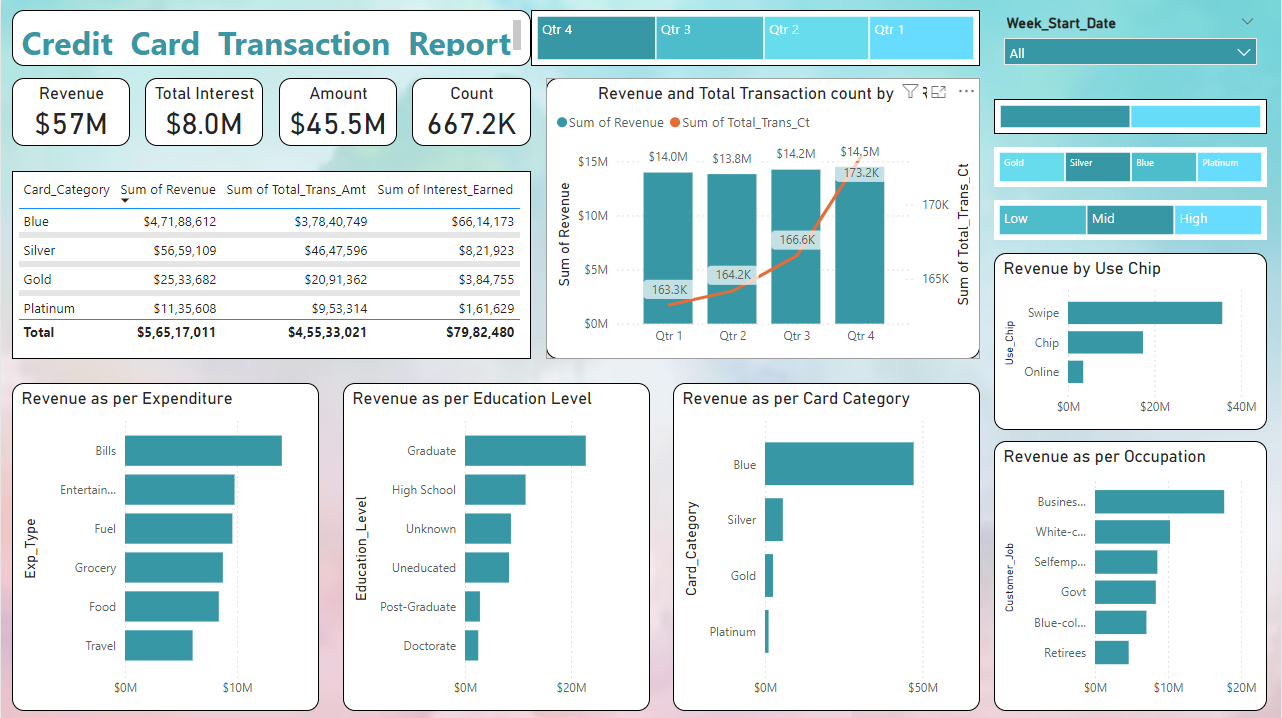

The dashboard page shown, as its layout file describes it:
{"tool":"powerbi","page":{"name":"CC transaction","canvas":[1280,720],"ordinal":1},"visuals":[{"type":"textbox","box":[10.6,9.8,519.6,55.9],"z":0},{"type":"lineClusteredColumnComboChart","title":"Revenue and Total Transaction count by QTR","fields":{"Category":["cc_detail.Week_Start_Date.Variation.Date Hierarchy.Quarter"],"Y":["Sum(cc_detail.Revenue)"],"Y2":["Sum(cc_detail.Total_Trans_Ct)"]},"box":[545.3,78,433.6,281.1],"z":1000},{"type":"clusteredBarChart","title":"Revenue as per Expenditure","fields":{"Category":["cc_detail.Exp_Type"],"Y":["Sum(cc_detail.Revenue)"]},"box":[10.6,383.1,307.7,328.1],"z":2000},{"type":"clusteredBarChart","title":"Revenue as per Education Level","fields":{"Category":["cust_detail.Education_Level"],"Y":["Sum(cc_detail.Revenue)"]},"box":[342.3,383.1,306.8,328.1],"z":3000},{"type":"clusteredBarChart","title":"Revenue as per Card Category","fields":{"Category":["cc_detail.Card_Category"],"Y":["Sum(cc_detail.Revenue)"]},"box":[672.1,383.1,306.8,328.1],"z":4000},{"type":"clusteredBarChart","title":"Revenue as per Occupation","fields":{"Category":["cust_detail.Customer_Job"],"Y":["Sum(cc_detail.Revenue)"]},"box":[993.1,440.7,273.1,270.4],"z":5000},{"type":"clusteredBarChart","title":"Revenue by Use Chip","fields":{"Y":["Sum(cc_detail.Revenue)"],"Category":["cc_detail.Use_Chip"]},"box":[993.1,252.7,273.1,177.3],"z":6000},{"type":"tableEx","fields":{"Values":["cc_detail.Card_Category","Sum(cc_detail.Revenue)","Sum(cc_detail.Total_Trans_Amt)","Sum(cc_detail.Interest_Earned)"]},"box":[10.6,171.1,519.6,188],"z":7000},{"type":"card","title":"Revenue","fields":{"Values":["Sum(cc_detail.Revenue)"]},"box":[10.6,78,117.9,68.3],"z":8000},{"type":"card","title":"Total Interest","fields":{"Values":["Sum(cc_detail.Interest_Earned)"]},"box":[144.2,78,117.9,68.3],"z":9000},{"type":"card","title":"Amount","fields":{"Values":["Sum(cc_detail.Total_Trans_Amt)"]},"box":[277.8,78,117.9,68.3],"z":10000},{"type":"card","title":"Count","fields":{"Values":["Sum(cc_detail.Total_Trans_Ct)"]},"box":[411.4,78,118.8,68.3],"z":11000},{"type":"slicer","fields":{"Values":["cc_detail.Week_Start_Date"]},"box":[993.1,9.8,273.1,76.3],"z":12000},{"type":"treemap","fields":{"Group":["cc_detail.Week_Start_Date.Variation.Date Hierarchy.Quarter"],"Values":["Avg(cust_detail.Client_Num)"]},"box":[530.2,9.8,448.7,55.9],"z":13000},{"type":"treemap","fields":{"Group":["cust_detail.Gender"],"Values":["Avg(cust_detail.Client_Num)"]},"box":[993.1,99,273.1,35.5],"z":14000},{"type":"treemap","fields":{"Group":["cc_detail.Card_Category"],"Values":["Avg(cust_detail.Client_Num)"]},"box":[993.1,147.5,273.1,39.9],"z":15000},{"type":"treemap","fields":{"Group":["cust_detail.Income_Group"],"Values":["Avg(cust_detail.Client_Num)"]},"box":[993.1,200.4,273.1,39.9],"z":16000}]}

Visuals, with their boxes in screenshot pixels (x1, y1, x2, y2), scaled from the page's 1280x720 canvas onto the 1282x718 screenshot:
textbox: bbox=[11, 10, 531, 66]
"Revenue and Total Transaction count by QTR" lineClusteredColumnComboChart: bbox=[546, 78, 980, 358]
"Revenue as per Expenditure" clusteredBarChart: bbox=[11, 382, 319, 709]
"Revenue as per Education Level" clusteredBarChart: bbox=[343, 382, 650, 709]
"Revenue as per Card Category" clusteredBarChart: bbox=[673, 382, 980, 709]
"Revenue as per Occupation" clusteredBarChart: bbox=[995, 439, 1268, 709]
"Revenue by Use Chip" clusteredBarChart: bbox=[995, 252, 1268, 429]
tableEx - cc_detail.Card_Category x Sum(cc_detail.Revenue): bbox=[11, 171, 531, 358]
"Revenue" card: bbox=[11, 78, 129, 146]
"Total Interest" card: bbox=[144, 78, 263, 146]
"Amount" card: bbox=[278, 78, 396, 146]
"Count" card: bbox=[412, 78, 531, 146]
slicer - cc_detail.Week_Start_Date: bbox=[995, 10, 1268, 86]
treemap - cc_detail.Week_Start_Date.Variation.Date Hierarchy.Quarter x Avg(cust_detail.Client_Num): bbox=[531, 10, 980, 66]
treemap - cust_detail.Gender x Avg(cust_detail.Client_Num): bbox=[995, 99, 1268, 134]
treemap - cc_detail.Card_Category x Avg(cust_detail.Client_Num): bbox=[995, 147, 1268, 187]
treemap - cust_detail.Income_Group x Avg(cust_detail.Client_Num): bbox=[995, 200, 1268, 240]
